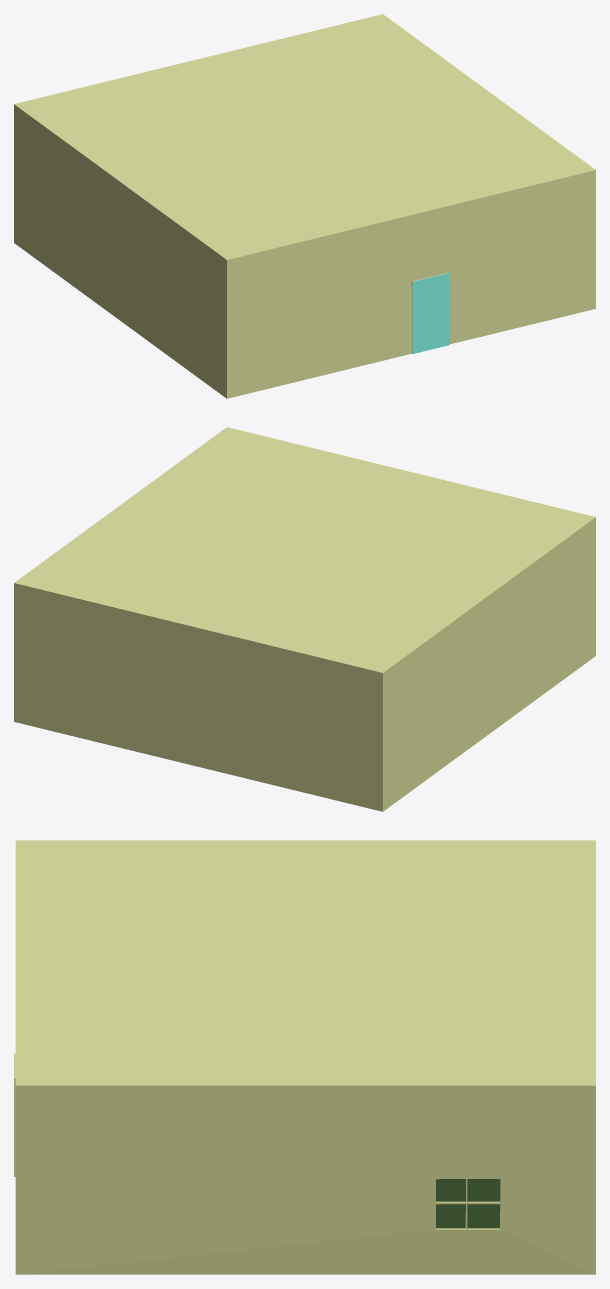
The model's file is bebek_odasi.fbx.
The picture shows the model from 3 angles, top to bottom: view 1: azimuth 30°, elevation 25°; view 2: azimuth 150°, elevation 25°; view 3: azimuth 270°, elevation 25°; orthographic projection. The views are drawn at different scales.
Visible parts, largest first — view 1: Room; view 2: Room; view 3: Room.
Boxes of the visible parts, x1=… form: Room: x1=14, y1=14, x2=595, y2=398; Room: x1=14, y1=427, x2=595, y2=811; Room: x1=14, y1=840, x2=595, y2=1274.
Bounding box in the file's own units: 2513 × 913 × 2515.
